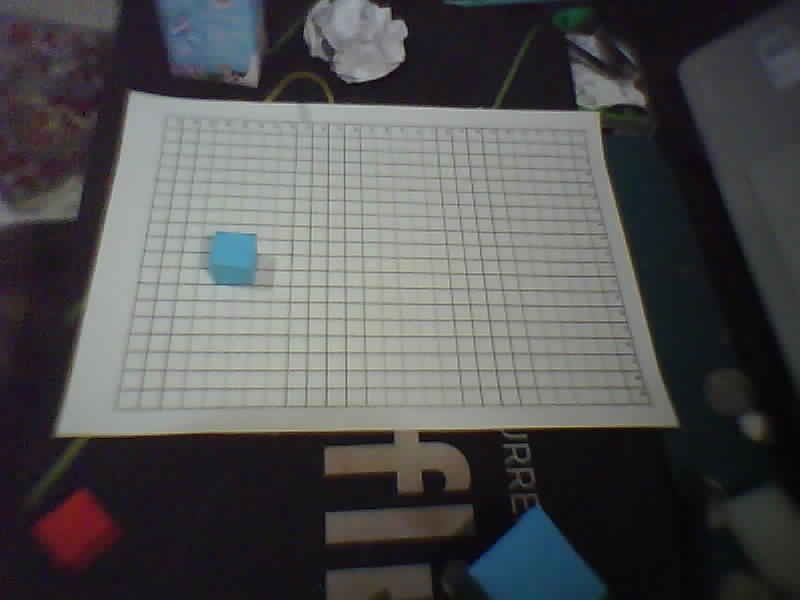blue(2x2x2): (206, 217, 266, 300)
